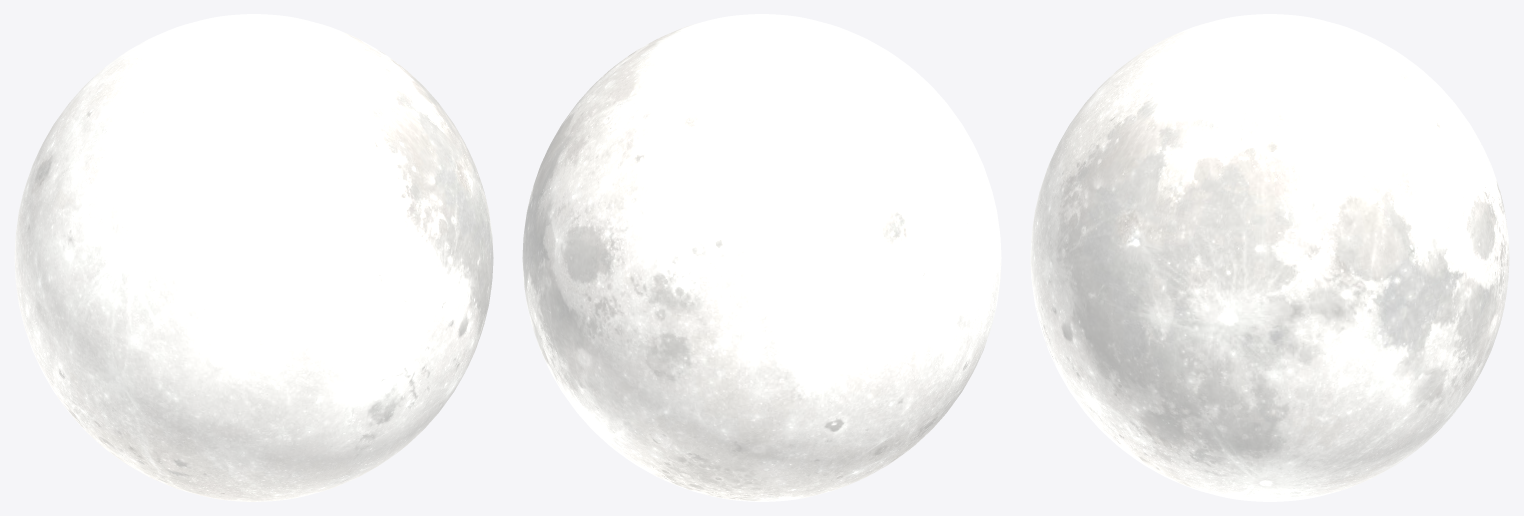
Rendered from moon.glb.
3 views of the same model, side by side, from view 1: azimuth 30°, elevation 25°; view 2: azimuth 150°, elevation 25°; view 3: azimuth 270°, elevation 25° (orthographic).
Parts seen in each view (by area): view 1: MoonLamp; view 2: MoonLamp; view 3: MoonLamp.
Boxes of the visible parts, x1,y1,x2,y2 form: MoonLamp: (14, 14, 493, 501); MoonLamp: (522, 14, 1001, 501); MoonLamp: (1030, 14, 1509, 501).
Bounding box in the file's own units: 0.1536 × 0.158 × 0.1536.
Materials: 1 (1 with a texture image).
